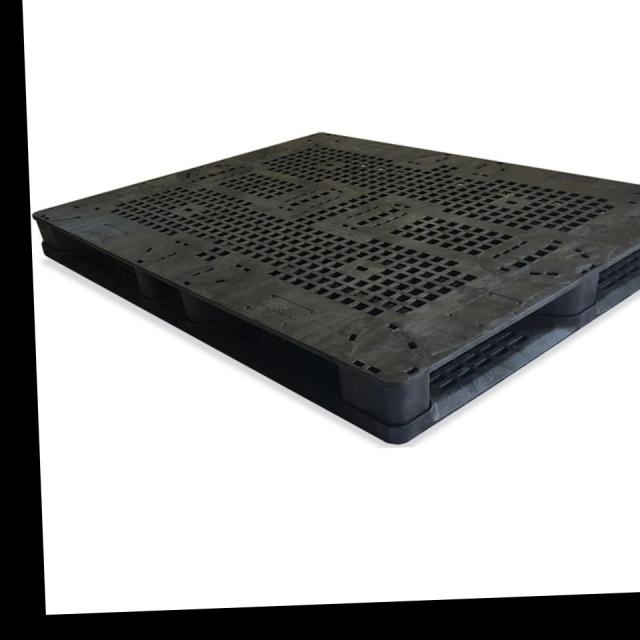non-igps: (31, 128, 640, 448)
